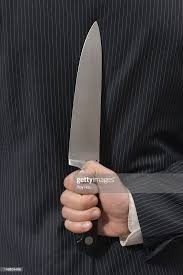knife: (68, 21, 102, 243)
